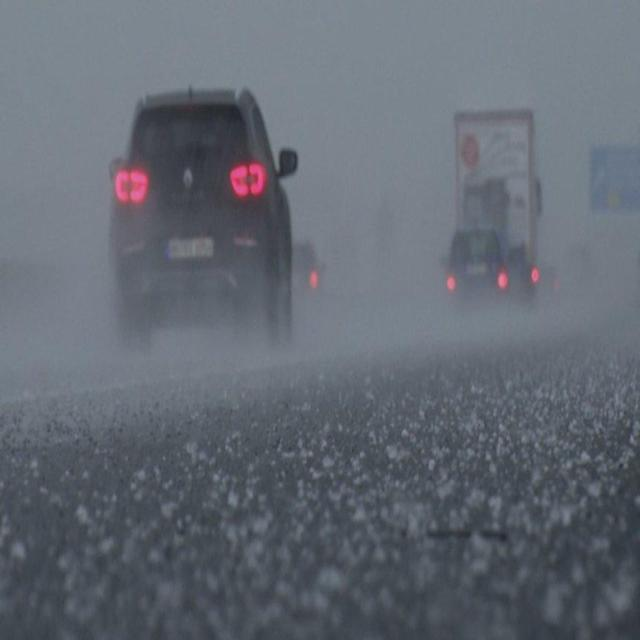Car: (102, 85, 300, 352), (439, 219, 514, 314)
Truck: (454, 98, 537, 273)
